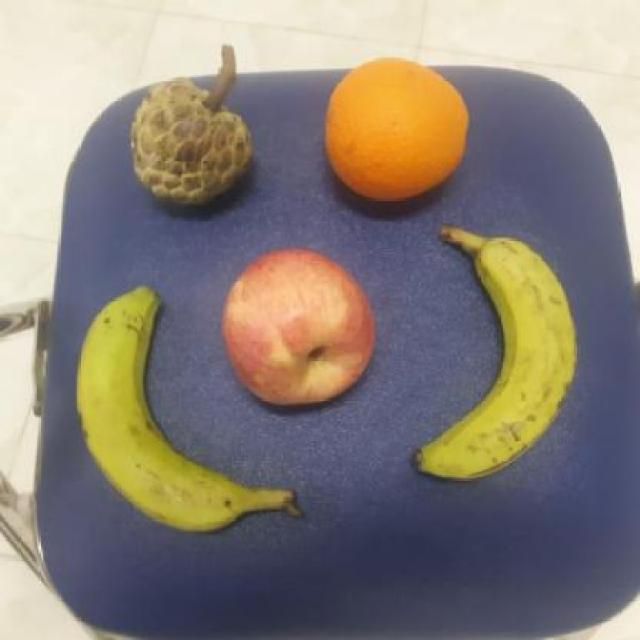apple: (213, 245, 390, 417)
banana: (72, 287, 297, 535), (406, 225, 580, 481)
oren: (321, 56, 468, 206)
sugar apple: (130, 80, 252, 202)
